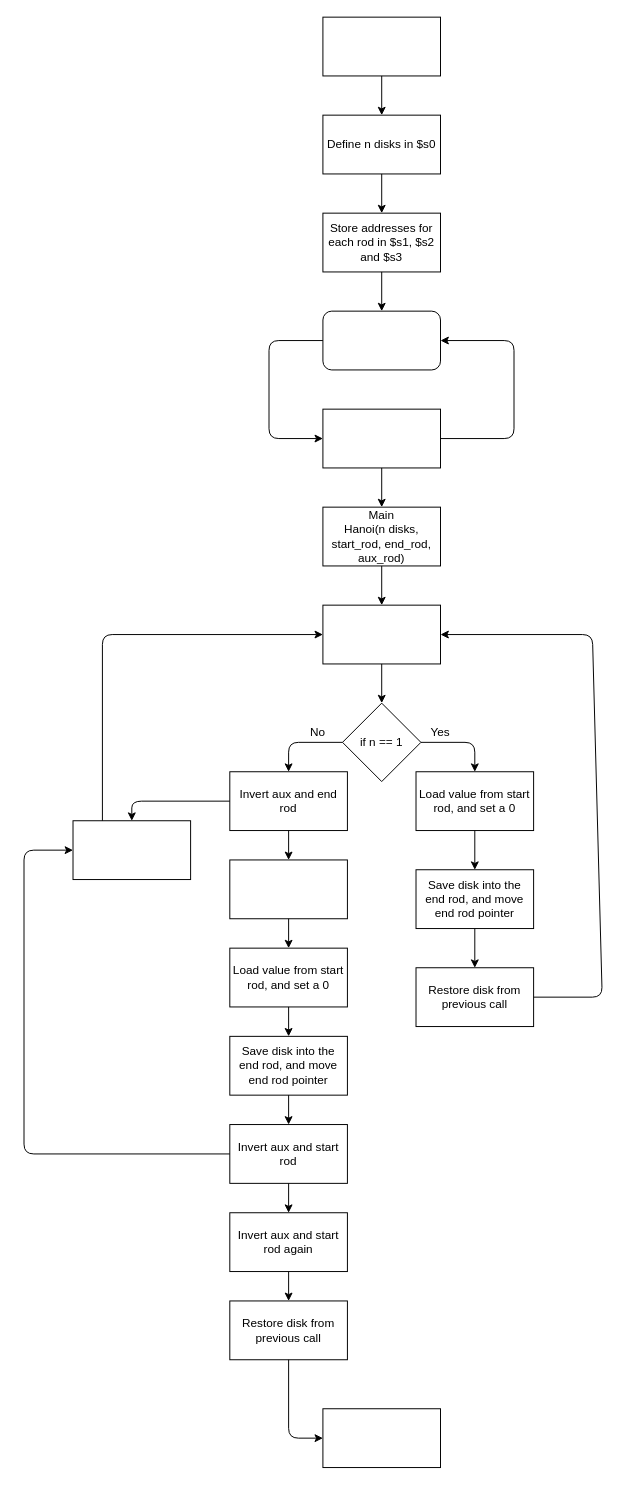
This 627x1485 diagram has some shape labels left out. The centre of each missing label's shape, as x and y in pixels:
End of function: (381,1438)
for i =0; i < n disks; i++: (381,340)
Hanoi Towers: (381,46)
Invert aux and end rod again: (288,889)
Load i disk into the start rod ($s1): (381,438)
Recursive call to hanoi_function: (131,850)
Store number of disks and each rod address, and call hanoi_function: (381,634)
